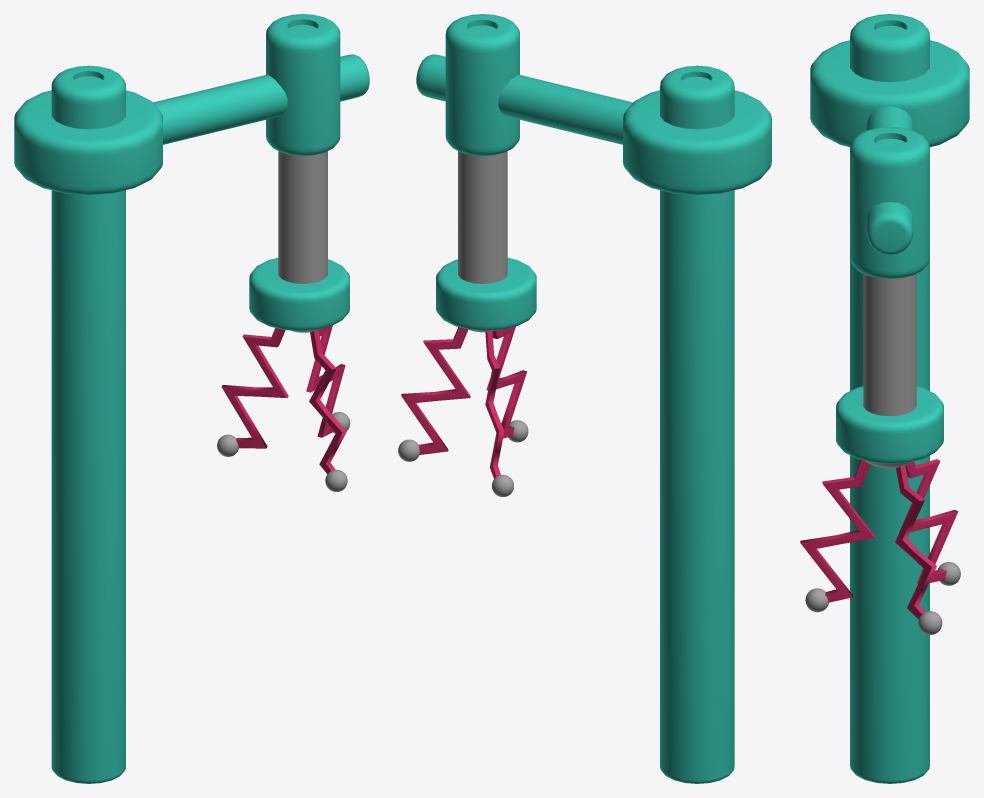
Rendered from dough_mixer_1.FBX.
3 views of the same model, side by side, from view 1: azimuth 30°, elevation 25°; view 2: azimuth 150°, elevation 25°; view 3: azimuth 270°, elevation 25° (orthographic). The views are drawn at different scales.
Visible parts, largest first — view 1: mixer_06, mixer_04, mixer_05, mixer_03, mixer_02, Sphere001, mixer_01; view 2: mixer_06, mixer_04, mixer_05, mixer_03, mixer_02, Sphere001, mixer_01; view 3: mixer_06, mixer_04, mixer_05, Sphere001, mixer_02, mixer_01, mixer_03.
Part boxes in pixels (left/top/right/bottom): mixer_06: left=51, top=65, right=125, bottom=783; mixer_04: left=14, top=90, right=162, bottom=195; mixer_05: left=266, top=14, right=340, bottom=155; mixer_03: left=153, top=54, right=369, bottom=144; mixer_02: left=278, top=151, right=327, bottom=283; Sphere001: left=217, top=325, right=350, bottom=491; mixer_01: left=249, top=258, right=349, bottom=330; mixer_06: left=660, top=65, right=734, bottom=783; mixer_04: left=623, top=90, right=771, bottom=195; mixer_05: left=445, top=14, right=519, bottom=155; mixer_03: left=416, top=54, right=632, bottom=144; mixer_02: left=458, top=151, right=507, bottom=283; Sphere001: left=398, top=326, right=528, bottom=496; mixer_01: left=436, top=257, right=536, bottom=330; mixer_06: left=850, top=14, right=929, bottom=783; mixer_04: left=810, top=40, right=969, bottom=147; mixer_05: left=850, top=126, right=929, bottom=278; Sphere001: left=800, top=459, right=960, bottom=634; mixer_02: left=863, top=274, right=916, bottom=416; mixer_01: left=836, top=386, right=943, bottom=463; mixer_03: left=866, top=106, right=913, bottom=254.
Size of the model in its own units: 258 by 495 by 103.
